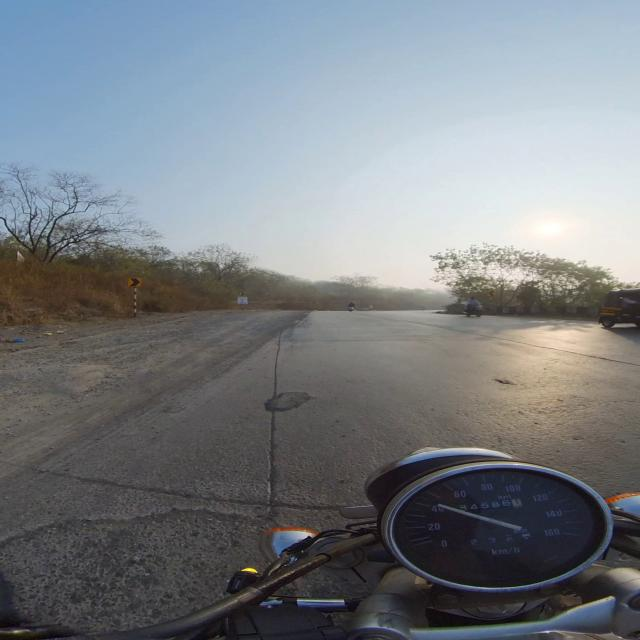motorcycle: (95, 448, 639, 639), (464, 305, 482, 317)
